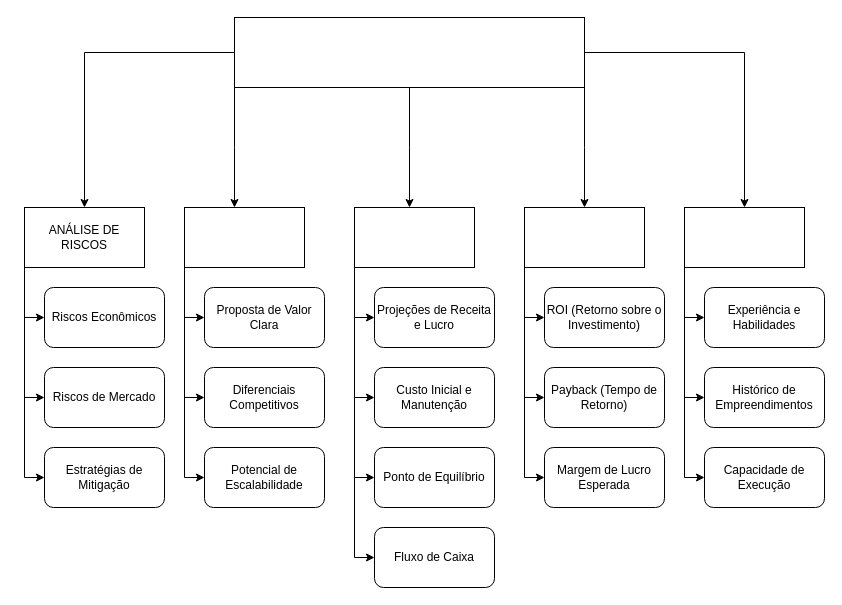
Image size: 842x605. Some labels were removed from this diagram. The shapes that lost their labels are listed below. From the top down, each one's box as (x1, y1, x2, y2) in pixels, then its label:
(234, 16, 584, 88): PLANO DE NEGÓCIOS NA PERSPECTIVA DO INVESTIDOR
(184, 206, 304, 268): ATRATIVIDADE DO INVESTIMENTO
(354, 206, 474, 268): ANÁLISE FINANCEIRA
(524, 206, 644, 268): INDICADORES DE RETORNO
(684, 206, 804, 268): PERFIL DA EQUIPE GESTORA
